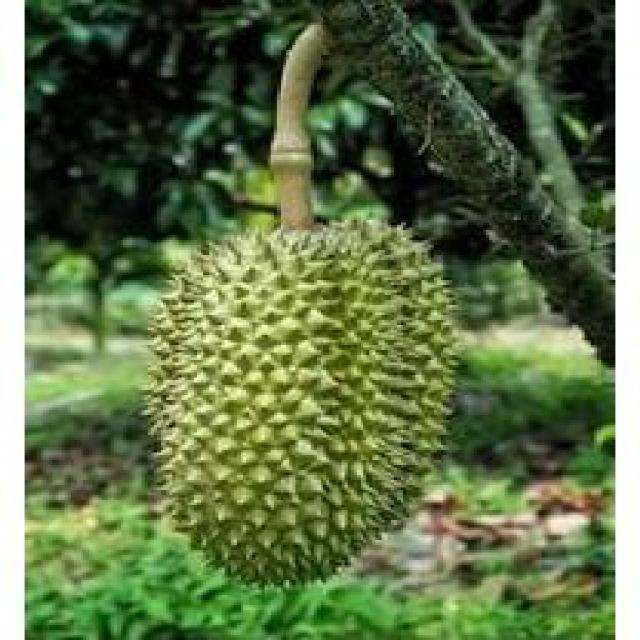Fruit: (166, 225, 477, 610)
